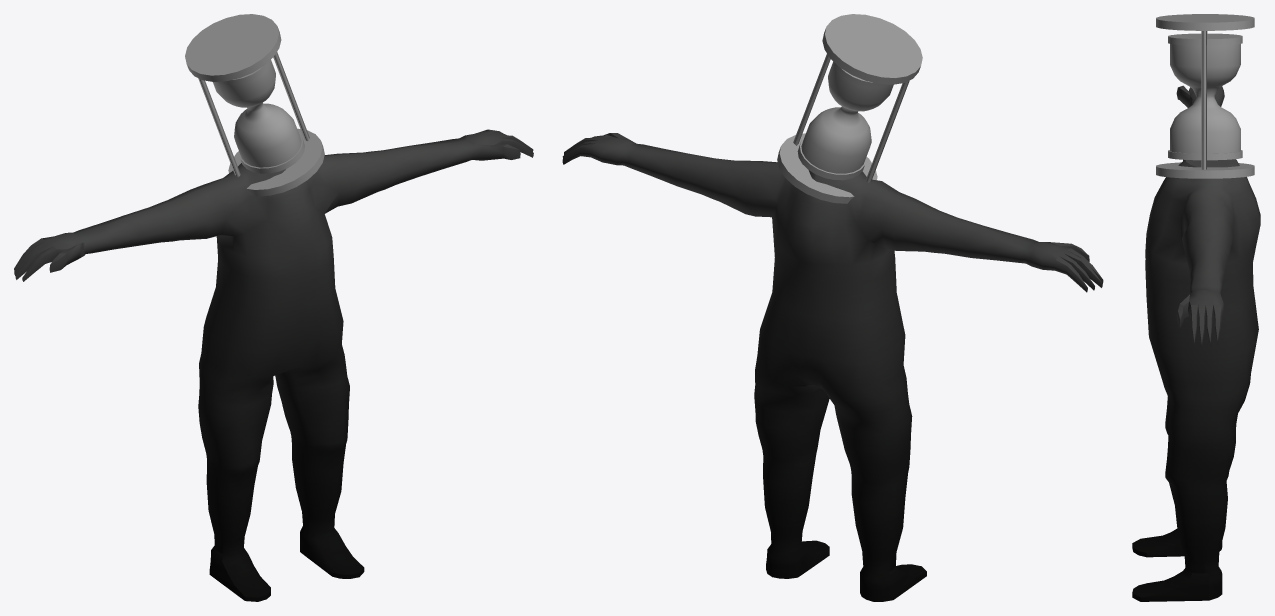
Rendered from Time Enemy.FBX.
3 renders of one model, left to right at view 1: azimuth 30°, elevation 25°; view 2: azimuth 150°, elevation 25°; view 3: azimuth 270°, elevation 25°, orthographic. The views are drawn at different scales.
Parts seen in each view (by area): view 1: Base Enemy, Cylinder002, Cylinder004, Cylinder006; view 2: Base Enemy, Cylinder002, Cylinder004, Cylinder006; view 3: Base Enemy, Cylinder002, Cylinder004, Cylinder006, Cylinder003.
Part boxes in pixels (x1=…): Base Enemy: x1=14, y1=129, x2=533, y2=601; Cylinder002: x1=213, y1=60, x2=304, y2=173; Cylinder004: x1=185, y1=14, x2=281, y2=81; Cylinder006: x1=228, y1=128, x2=324, y2=196; Base Enemy: x1=562, y1=133, x2=1103, y2=601; Cylinder002: x1=797, y1=61, x2=893, y2=180; Cylinder004: x1=822, y1=14, x2=922, y2=84; Cylinder006: x1=777, y1=133, x2=877, y2=203; Base Enemy: x1=1132, y1=85, x2=1260, y2=601; Cylinder002: x1=1168, y1=33, x2=1242, y2=160; Cylinder004: x1=1156, y1=14, x2=1254, y2=30; Cylinder006: x1=1156, y1=162, x2=1254, y2=178; Cylinder003: x1=1201, y1=31, x2=1206, y2=169.
Size of the model in its own units: 8.27 by 1.76 by 8.29.
Materials: 4 (1 with a texture image).
